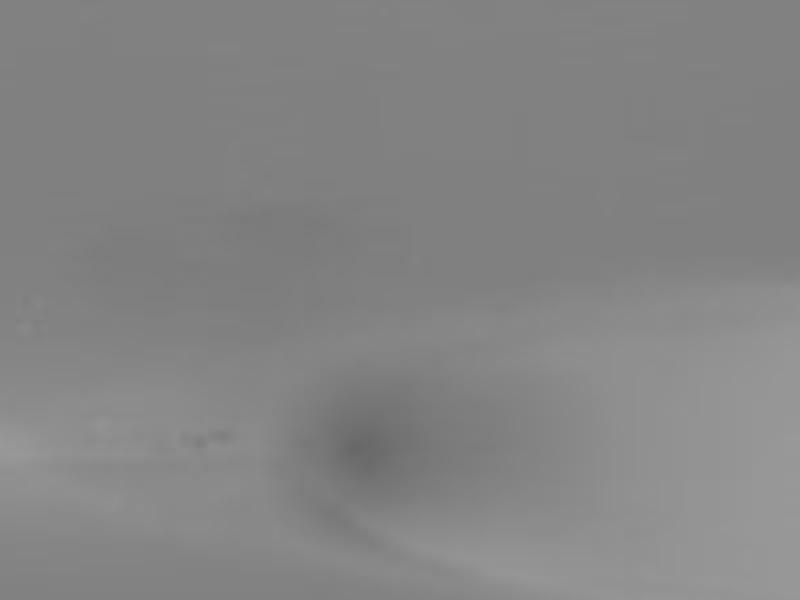defect: (308, 402, 450, 503), (181, 429, 211, 452), (212, 426, 232, 441)
